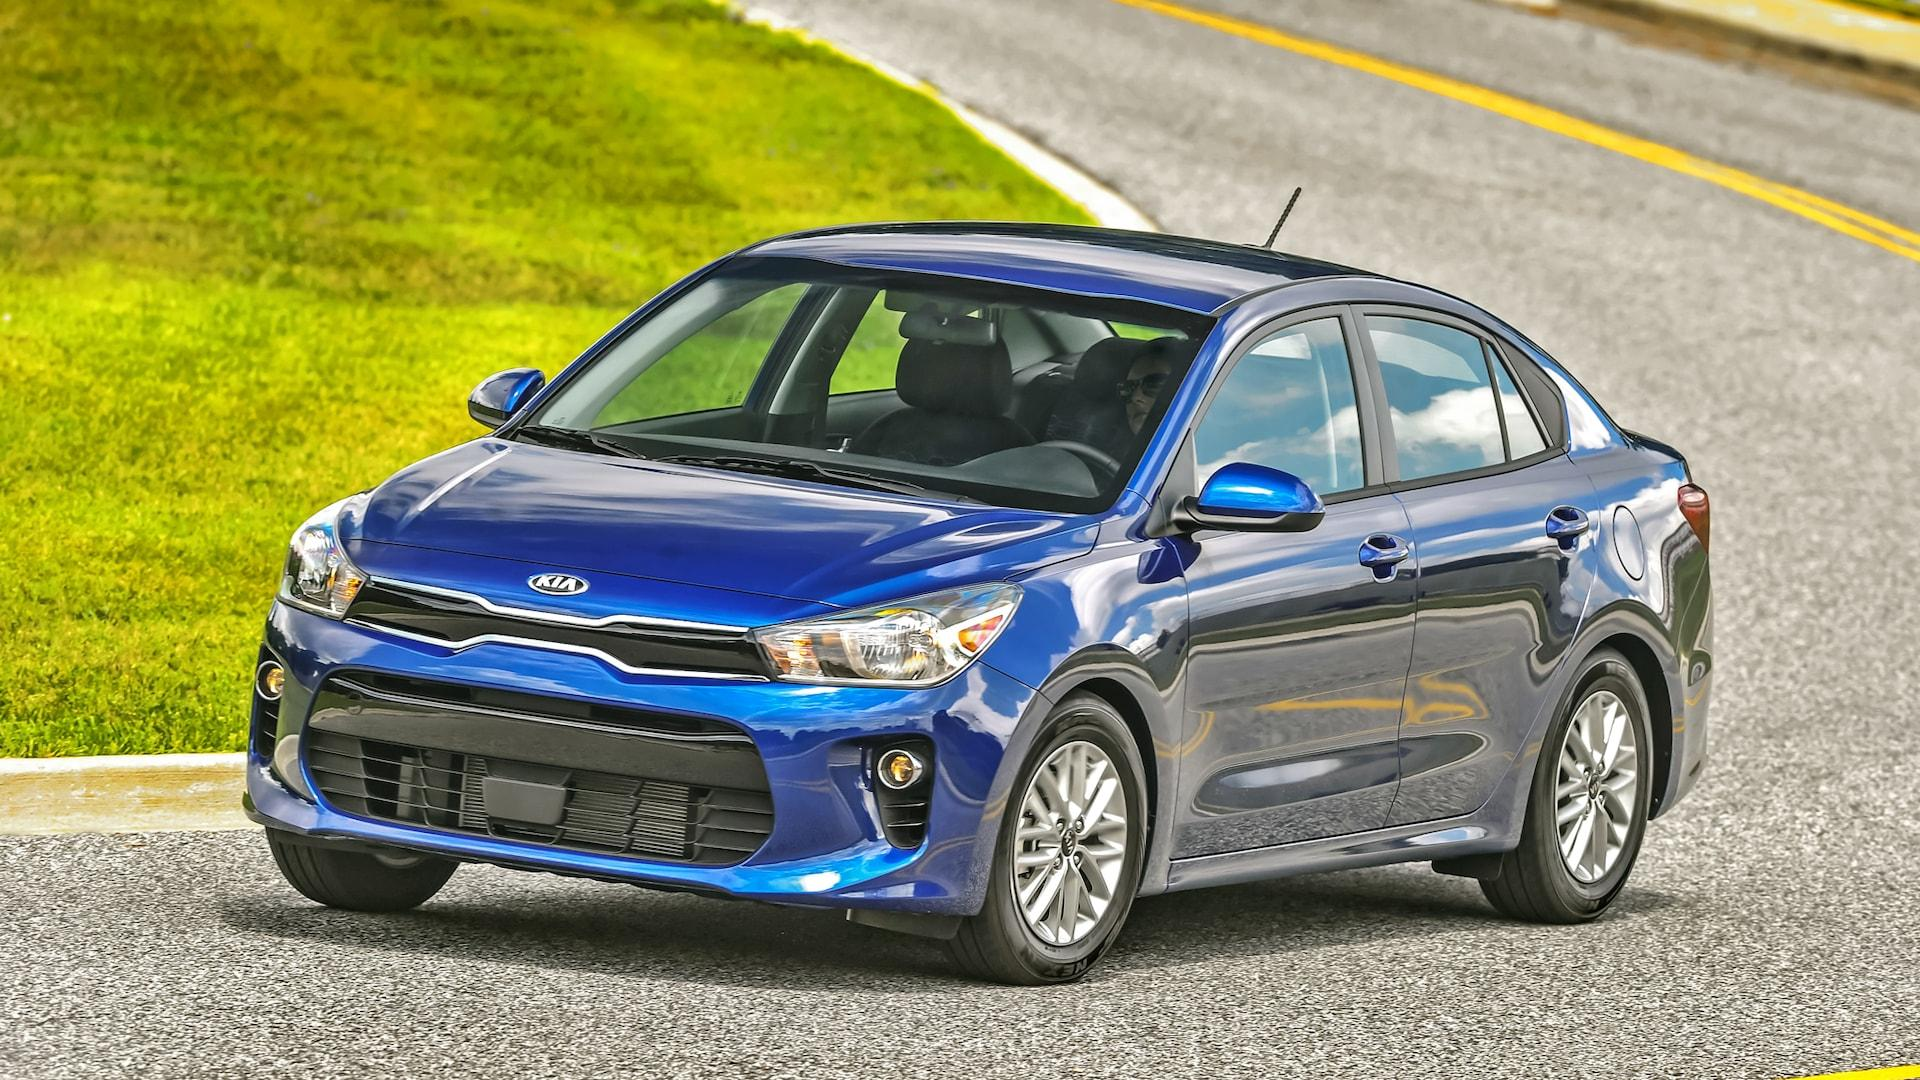windshield: (510, 244, 1247, 524)
